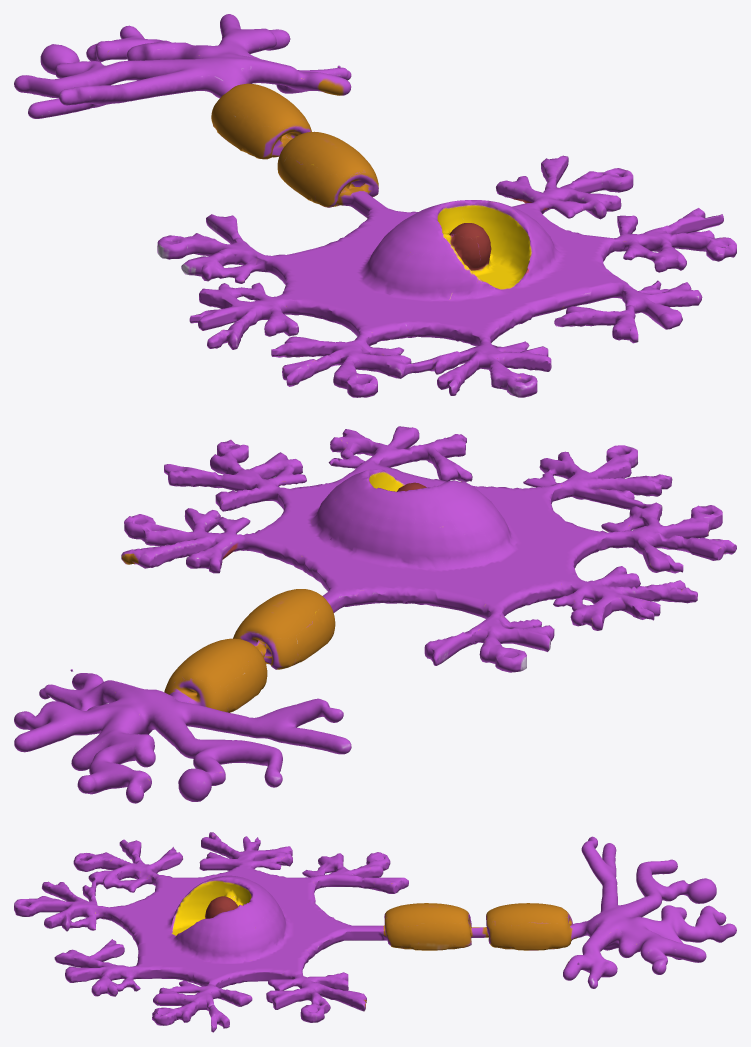
The model's file is Neuron2.glb.
3 renders of one model, top to bottom at view 1: azimuth 30°, elevation 25°; view 2: azimuth 150°, elevation 25°; view 3: azimuth 270°, elevation 25°, orthographic. The views are drawn at different scales.
Parts seen in each view (by area): view 1: Neuron; view 2: Neuron; view 3: Neuron.
Part boxes in pixels (left/top/right/bottom): Neuron: left=14, top=14, right=736, bottom=397; Neuron: left=14, top=426, right=736, bottom=803; Neuron: left=14, top=832, right=736, bottom=1032.
Size of the model in its own units: 6.07 by 0.892 by 9.53.
1 material, 1 textured.
